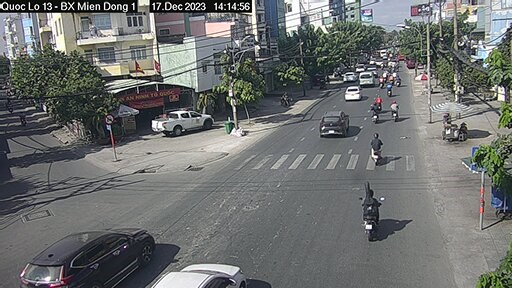car: (27, 229, 153, 286), (151, 108, 214, 135), (316, 107, 349, 137), (341, 83, 363, 103), (357, 72, 375, 88), (340, 69, 357, 82)
motorbike: (361, 182, 382, 237), (367, 134, 387, 167), (366, 106, 383, 125), (390, 100, 403, 123)
